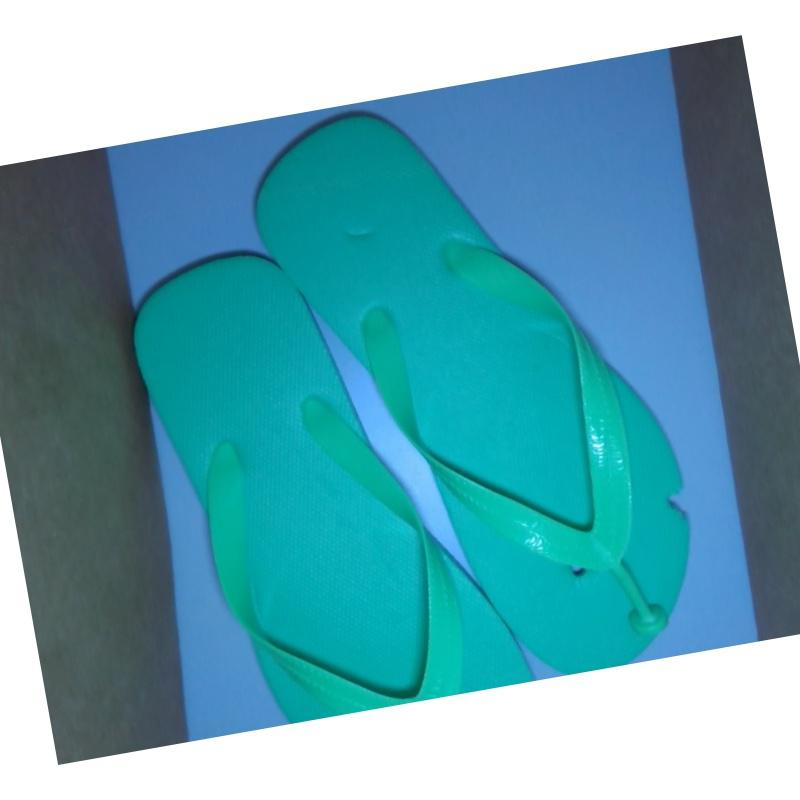chipped: (654, 471, 705, 539)
detached: (618, 584, 685, 646)
